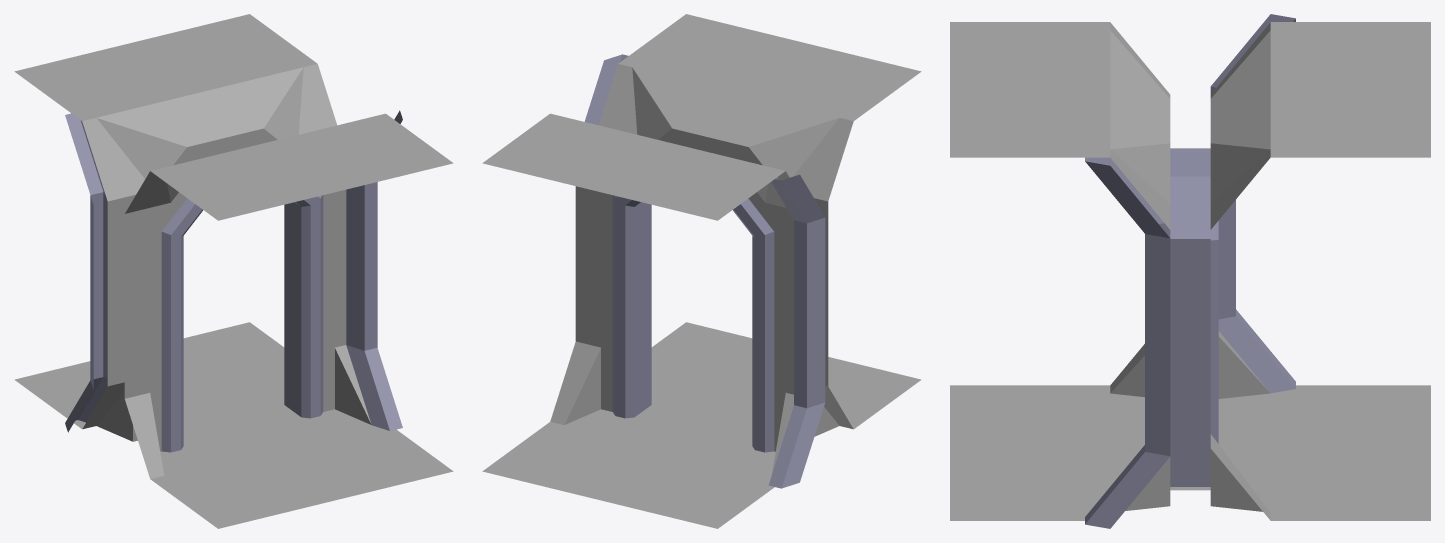
Rendered from SS_Tile_Doorway_v02.fbx.
The picture shows the model from 3 angles, left to right: view 1: azimuth 30°, elevation 25°; view 2: azimuth 150°, elevation 25°; view 3: azimuth 270°, elevation 25°; orthographic projection. The views are drawn at different scales.
Parts seen in each view (by area): view 1: pCube33; view 2: pCube33; view 3: pCube33.
Boxes of the visible parts, box(x1,y1,x2,y2) form: pCube33: box(14, 14, 453, 528); pCube33: box(482, 14, 921, 528); pCube33: box(950, 14, 1430, 528).
Bounding box in the file's own units: 2.24 × 2.5 × 3.
